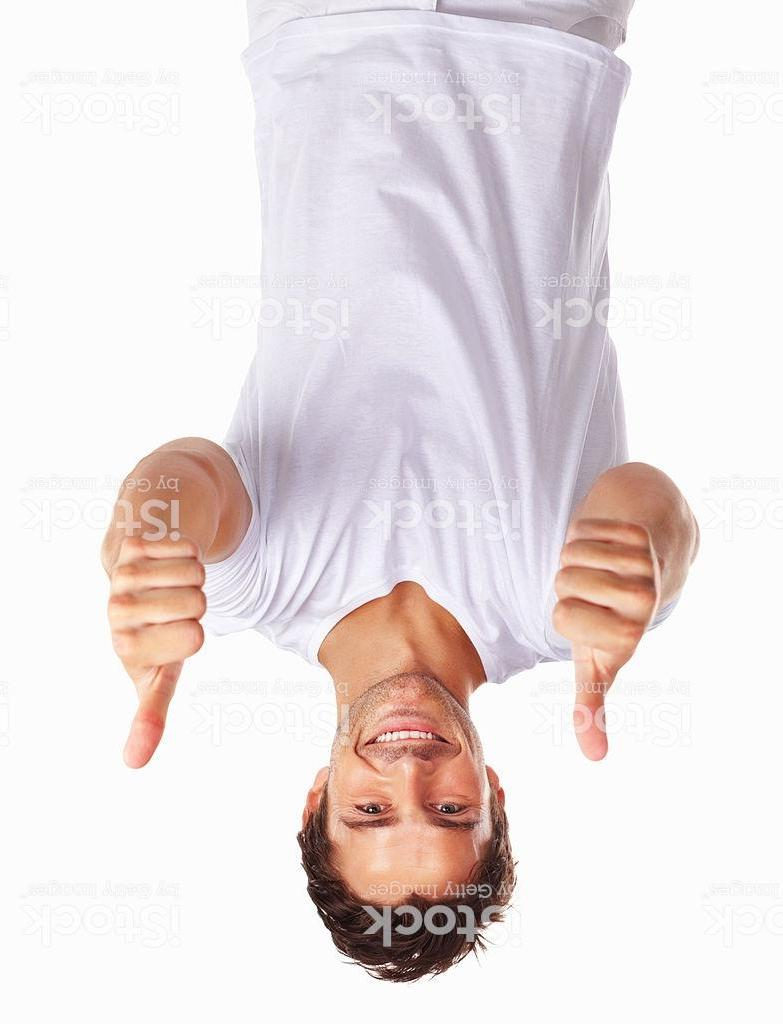thumbsdown: (552, 516, 658, 763), (107, 534, 207, 771)
